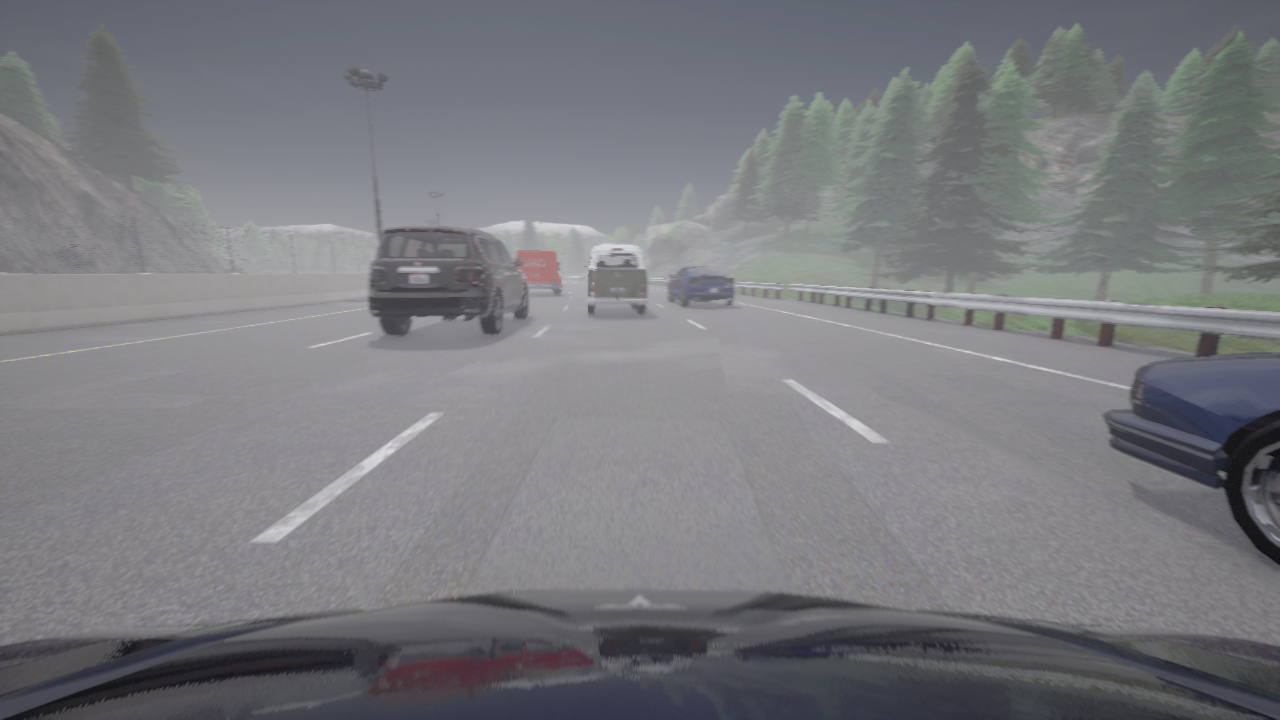cyclist: (0, 588, 1279, 719), (1103, 352, 1279, 565), (368, 227, 528, 335), (583, 244, 647, 314), (668, 265, 734, 306), (516, 251, 560, 293)
